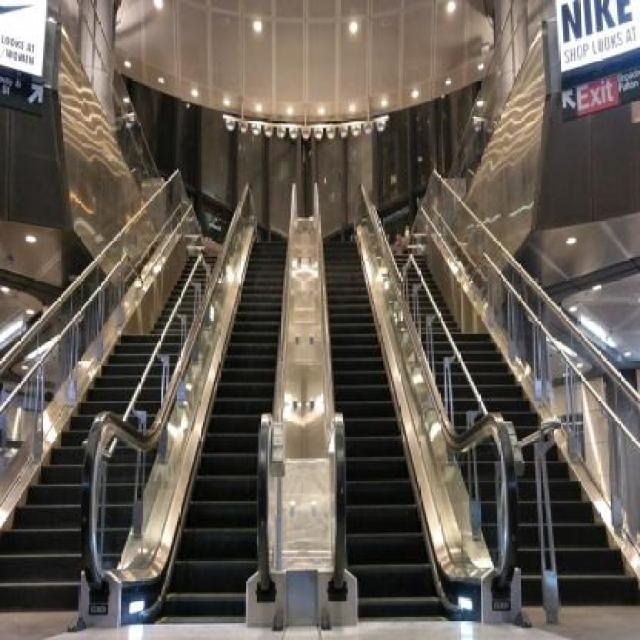stair: (387, 253, 640, 601), (0, 254, 228, 611), (165, 240, 288, 618), (323, 238, 440, 620)
